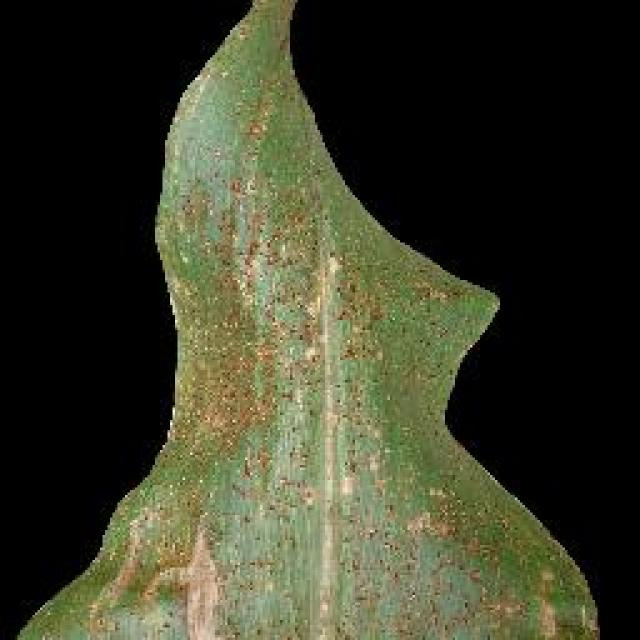Corn Common Rust: (132, 182, 492, 593)
